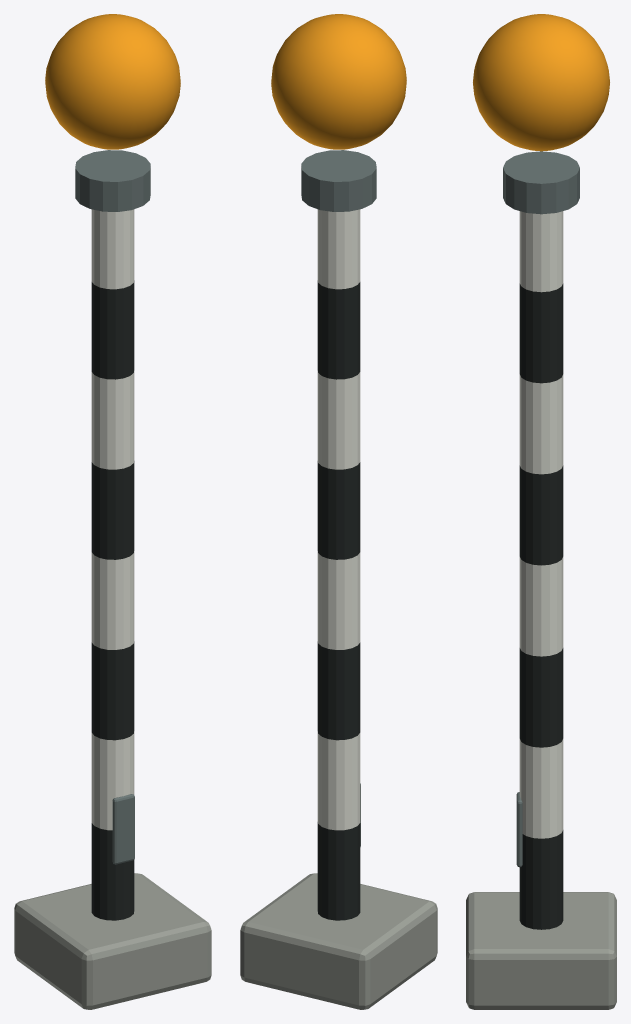
Rendered from source-edit.glb.
3 views of the same model, side by side, from view 1: azimuth 30°, elevation 25°; view 2: azimuth 150°, elevation 25°; view 3: azimuth 270°, elevation 25° (orthographic).
Visible parts, largest first — view 1: BASE_Footing, BEACON_AmberGlobe, COLLAR_Globe, POLE_Band_4, POLE_Band_5, POLE_Band_3, POLE_Band_6, POLE_Band_2, POLE_Band_7, POLE_Band_1, POLE_Band_0, HATCH_Service; view 2: BASE_Footing, BEACON_AmberGlobe, COLLAR_Globe, POLE_Band_1, POLE_Band_4, POLE_Band_0, POLE_Band_5, POLE_Band_3, POLE_Band_6, POLE_Band_2, POLE_Band_7; view 3: BASE_Footing, BEACON_AmberGlobe, COLLAR_Globe, POLE_Band_4, POLE_Band_3, POLE_Band_2, POLE_Band_5, POLE_Band_6, POLE_Band_1, POLE_Band_0, POLE_Band_7, HATCH_Service.
Boxes of the visible parts, x1,y1,x2,y2 form: BASE_Footing: (14,873,211,1009); BEACON_AmberGlobe: (45,14,180,149); COLLAR_Globe: (75,150,150,211); POLE_Band_4: (91,461,134,559); POLE_Band_5: (91,371,134,469); POLE_Band_3: (91,551,134,649); POLE_Band_6: (91,280,134,379); POLE_Band_2: (91,641,134,740); POLE_Band_7: (91,209,134,289); POLE_Band_1: (91,731,134,830); POLE_Band_0: (91,823,134,920); HATCH_Service: (112,794,134,864); BASE_Footing: (240,873,437,1009); BEACON_AmberGlobe: (271,14,406,149); COLLAR_Globe: (301,150,376,211); POLE_Band_1: (317,731,360,830); POLE_Band_4: (317,461,360,559); POLE_Band_0: (317,822,360,920); POLE_Band_5: (317,371,360,469); POLE_Band_3: (317,551,360,649); POLE_Band_6: (317,280,360,379); POLE_Band_2: (317,641,360,740); POLE_Band_7: (317,209,360,289); BASE_Footing: (466,892,616,1009); BEACON_AmberGlobe: (473,14,609,151); COLLAR_Globe: (503,151,579,214); POLE_Band_4: (519,465,563,565); POLE_Band_3: (519,557,563,656); POLE_Band_2: (519,648,563,747); POLE_Band_5: (519,374,563,474); POLE_Band_6: (519,283,563,383); POLE_Band_1: (519,739,563,838); POLE_Band_0: (519,830,563,929); POLE_Band_7: (519,211,563,292); HATCH_Service: (516,792,522,867).
Bounding box in the file's own units: 0.45 × 3.16 × 0.45.
